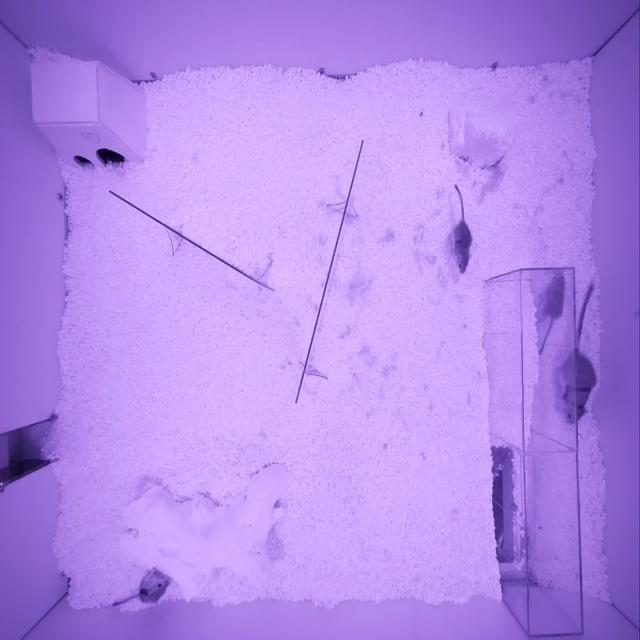adult_front: (559, 352, 597, 423)
pup_fluffy: (543, 273, 565, 319)
pup_spotted: (452, 220, 473, 275)
pup_v_stripe: (139, 567, 169, 603)
